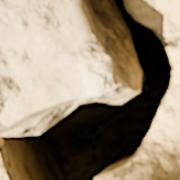brick: (0, 0, 115, 134)
crack: (0, 0, 178, 179)
